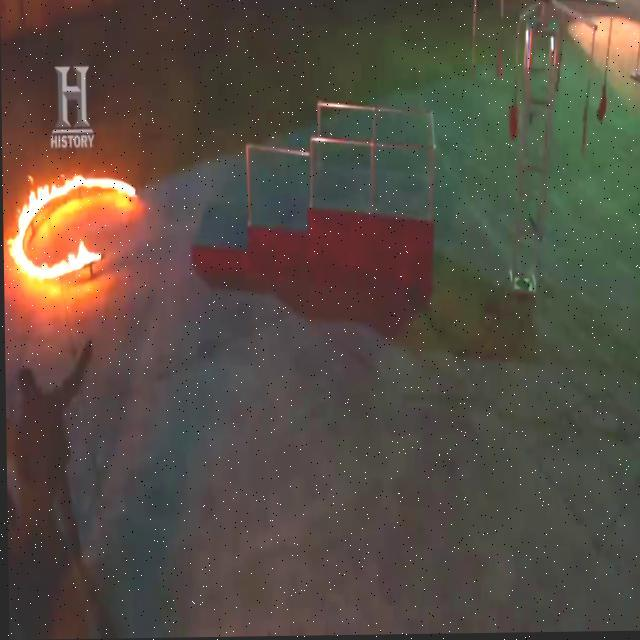Fire: (8, 166, 134, 280)
